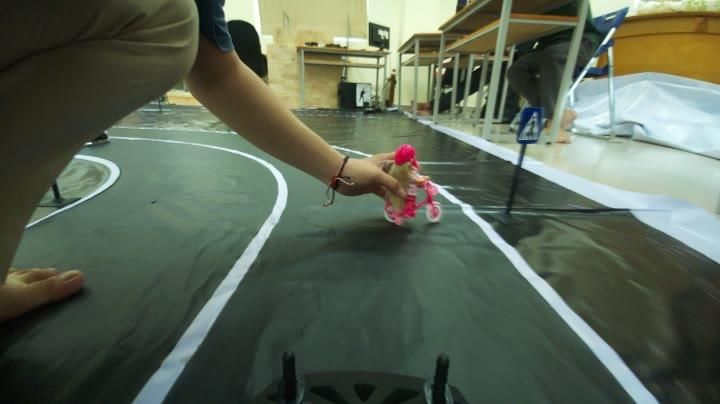crosswalk: (508, 105, 548, 155)
pedestrian: (377, 142, 446, 225)
